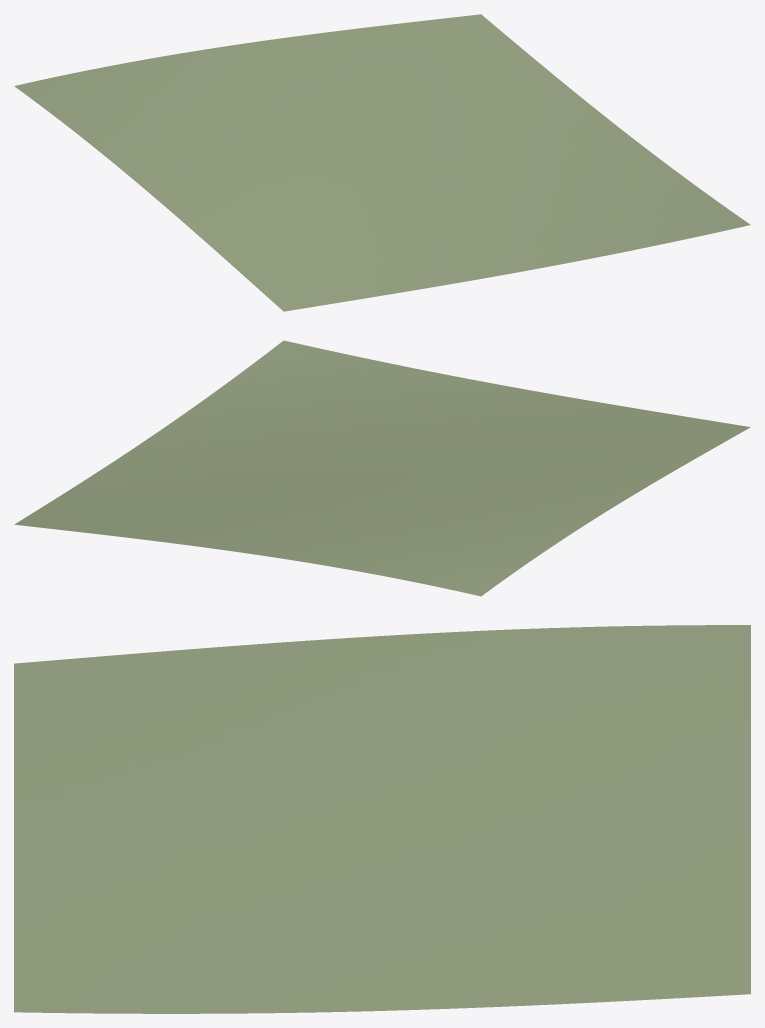
Rendered from alpine-6-15.glb.
3 renders of one model, top to bottom at view 1: azimuth 30°, elevation 25°; view 2: azimuth 150°, elevation 25°; view 3: azimuth 270°, elevation 25°, orthographic. The views are drawn at different scales.
Parts seen in each view (by area): view 1: alpine-6-15; view 2: alpine-6-15; view 3: alpine-6-15.
Boxes of the visible parts, <box> form: alpine-6-15: <box>14,14,750,311</box>; alpine-6-15: <box>14,340,750,596</box>; alpine-6-15: <box>14,625,750,1013</box>.
Size of the model in its own units: 256 by 29.63 by 256.
